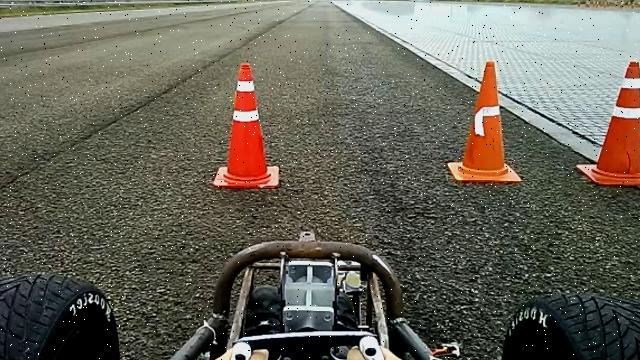red cone: (447, 59, 522, 184), (213, 62, 280, 189), (575, 59, 640, 187)
